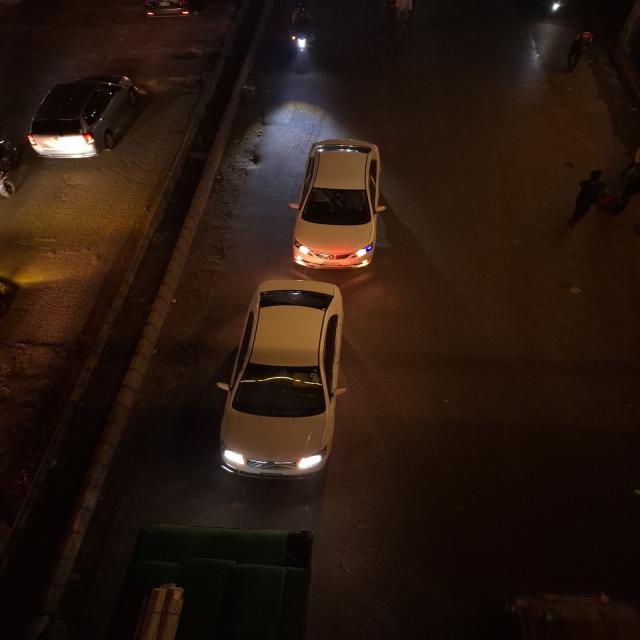car: (219, 277, 358, 488), (290, 136, 396, 280), (20, 70, 150, 164), (134, 0, 204, 23)
motorcycle: (282, 3, 318, 68), (0, 137, 23, 209)
pedestrian: (558, 162, 614, 233), (561, 27, 598, 75)
